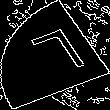L_SE: (20, 25, 90, 85)
